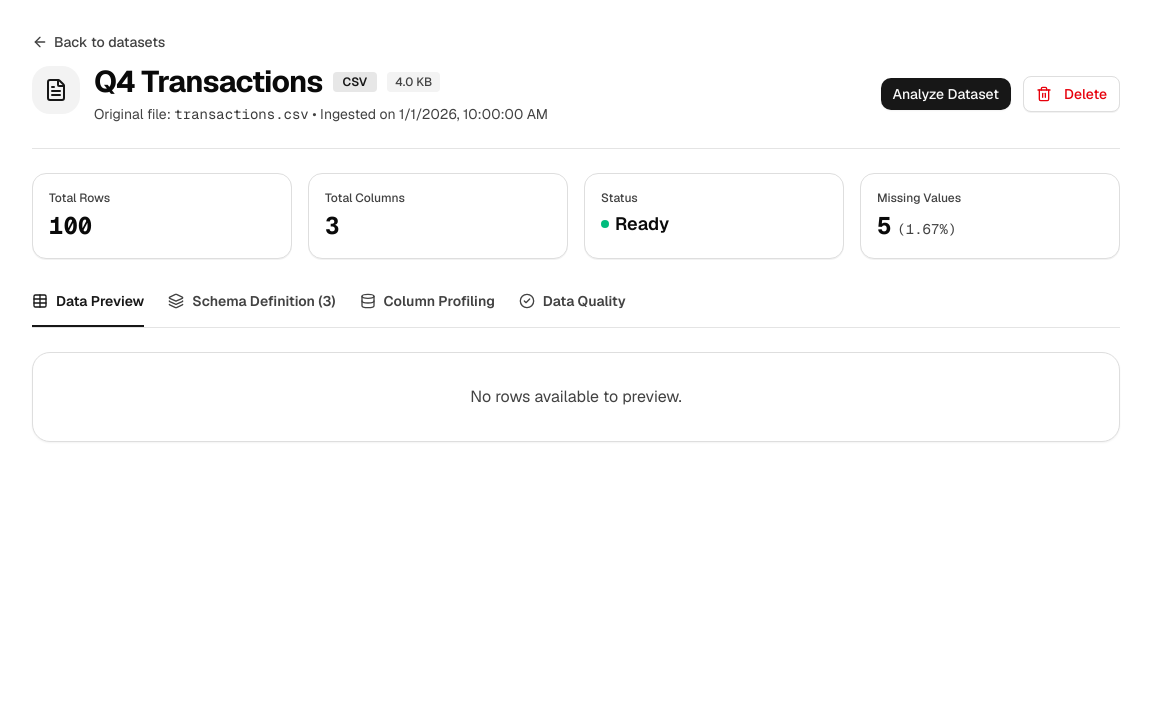
Scenario: M2 Dataset Experience › DatasetDetailPage › displays discrete categorical frequency summary for discrete integer columns
The image size is (1152, 712).
Expected: the heading "Q4 Transactions" is shown, [94, 64, 322, 100]
Click the button "Column Profiling". click: (427, 309)
box: [360, 291, 495, 327]
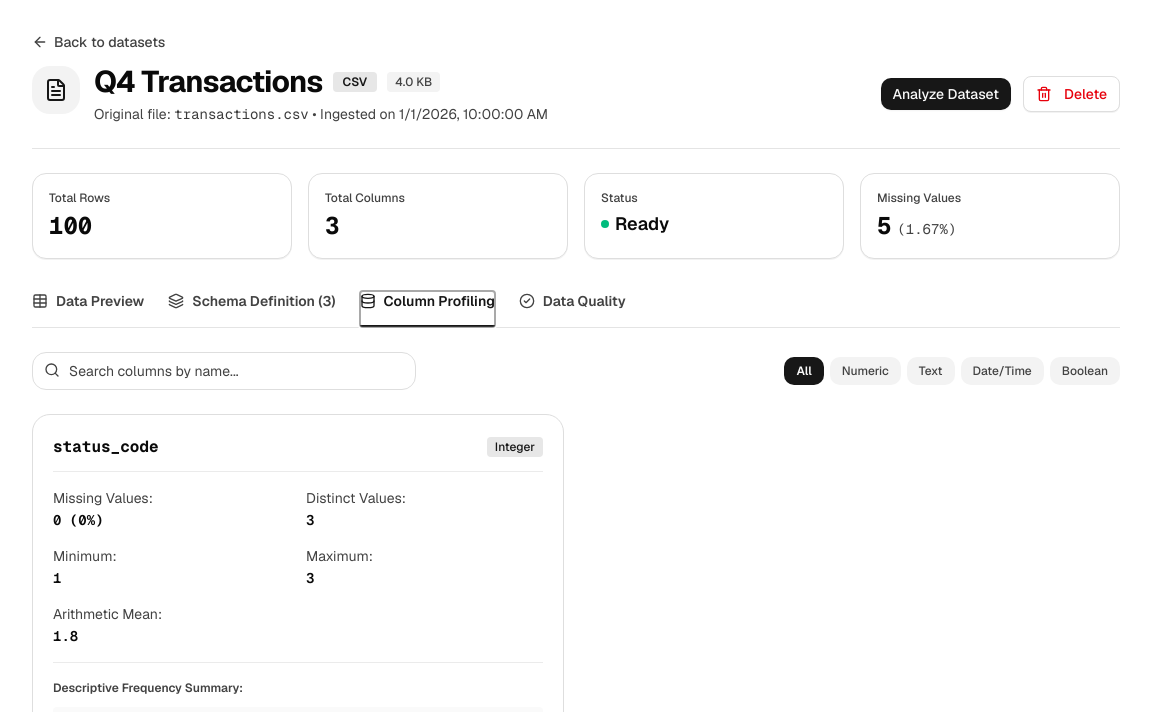
Result: the text "Descriptive Frequency Summary:" is shown at [53, 680, 243, 696]
Result: the text "Arithmetic Mean:" is shown at [53, 605, 162, 623]
